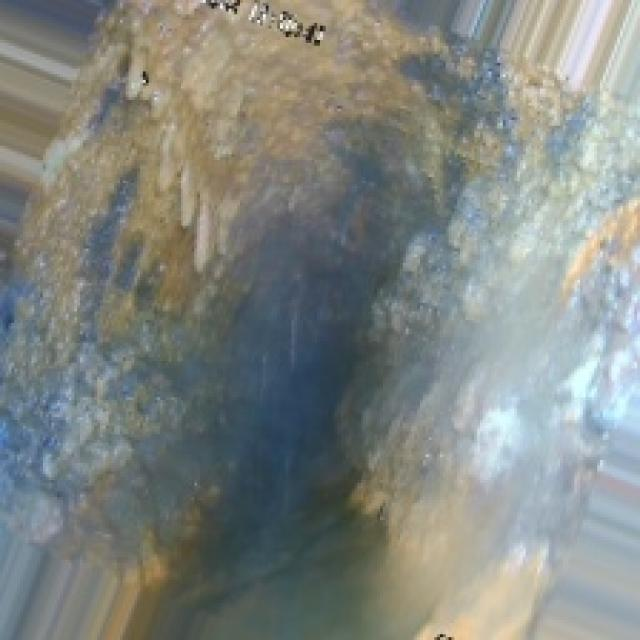encrustation: (111, 57, 554, 546)
